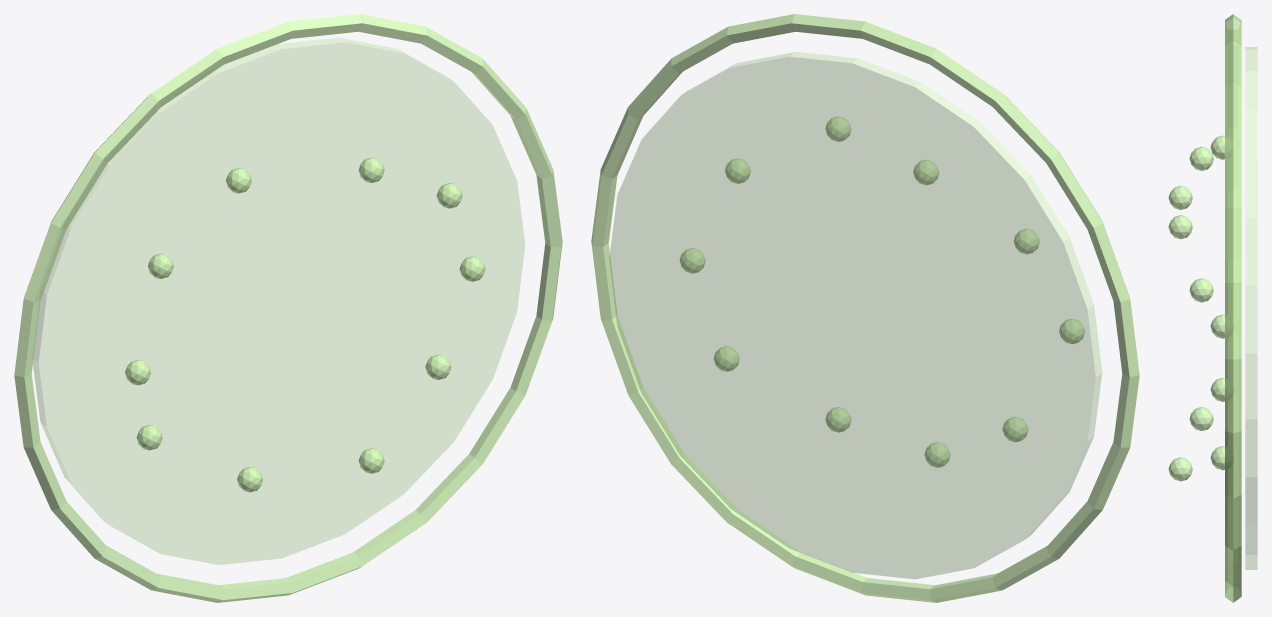
Rendered from 01_water_star_environment_overlay_1.glb.
3 views of the same model, side by side, from view 1: azimuth 30°, elevation 25°; view 2: azimuth 150°, elevation 25°; view 3: azimuth 270°, elevation 25° (orthographic). The views are drawn at different scales.
Visible parts, largest first — view 1: environment_surface_disc, foam_or_star_ring; view 2: environment_surface_disc, foam_or_star_ring; view 3: foam_or_star_ring, environment_surface_disc, star_or_droplet_1, star_or_droplet_4, star_or_droplet_8, star_or_droplet_2, star_or_droplet_5, star_or_droplet_7, star_or_droplet_6, star_or_droplet_3, star_or_droplet_9, star_or_droplet_0.
Part boxes in pixels (box(x1,y1,x2,y2)): environment_surface_disc: box(33, 38, 524, 564); foam_or_star_ring: box(14, 14, 562, 602); environment_surface_disc: box(609, 52, 1101, 578); foam_or_star_ring: box(591, 14, 1139, 602); foam_or_star_ring: box(1225, 14, 1241, 602); environment_surface_disc: box(1245, 47, 1257, 569); star_or_droplet_1: box(1189, 278, 1213, 302); star_or_droplet_4: box(1189, 146, 1213, 170); star_or_droplet_8: box(1168, 457, 1192, 481); star_or_droplet_2: box(1168, 185, 1192, 209); star_or_droplet_5: box(1168, 215, 1192, 239); star_or_droplet_7: box(1189, 407, 1213, 431); star_or_droplet_6: box(1210, 314, 1224, 338); star_or_droplet_3: box(1210, 135, 1224, 159); star_or_droplet_9: box(1210, 446, 1224, 470); star_or_droplet_0: box(1210, 377, 1224, 401).
Size of the model in its own units: 1.69 by 1.69 by 0.2545.
